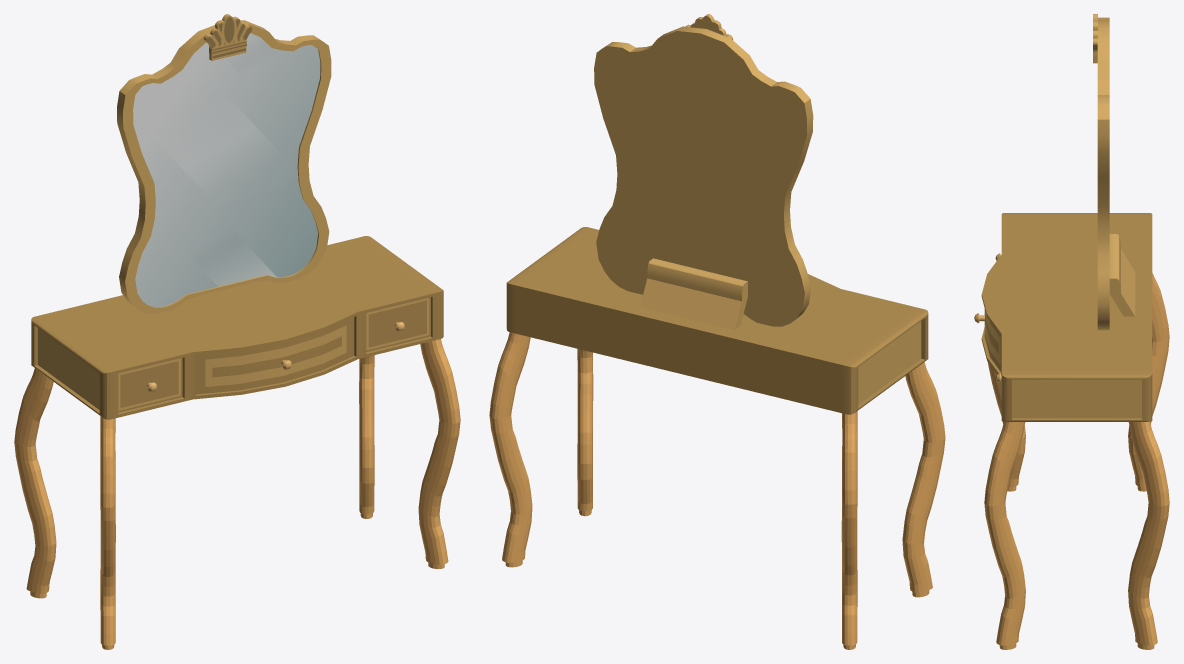
The model's file is classic dressing table.fbx.
The picture shows the model from 3 angles, left to right: view 1: azimuth 30°, elevation 25°; view 2: azimuth 150°, elevation 25°; view 3: azimuth 270°, elevation 25°; orthographic projection. The views are drawn at different scales.
Parts seen in each view (by area): view 1: classic dressing table; view 2: classic dressing table; view 3: classic dressing table.
Boxes of the visible parts, bbox=[...] form: classic dressing table: bbox=[14, 14, 460, 649]; classic dressing table: bbox=[489, 14, 945, 649]; classic dressing table: bbox=[974, 14, 1169, 649].
Bounding box in the file's own units: 110 × 164 × 52.48.
Materials: 2 (2 with a texture image).
